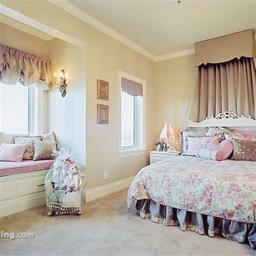Cama: (134, 124, 253, 209)
Otro Obstaculo: (47, 162, 83, 215)
